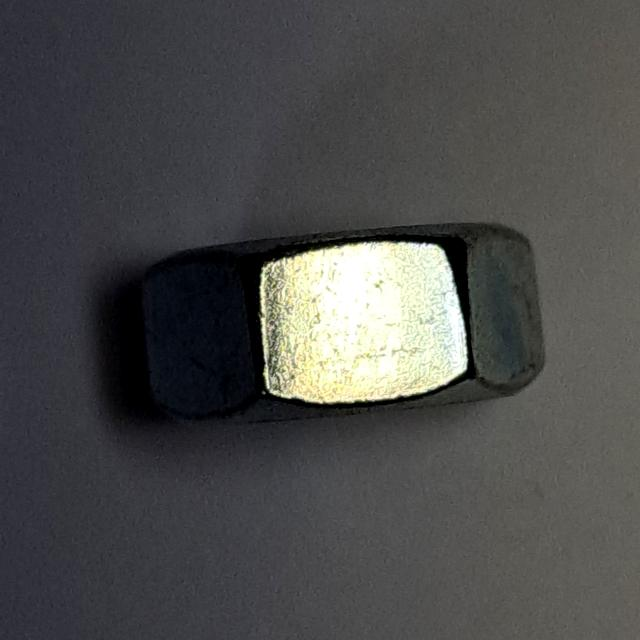Side_Excellent: (128, 203, 569, 443)
